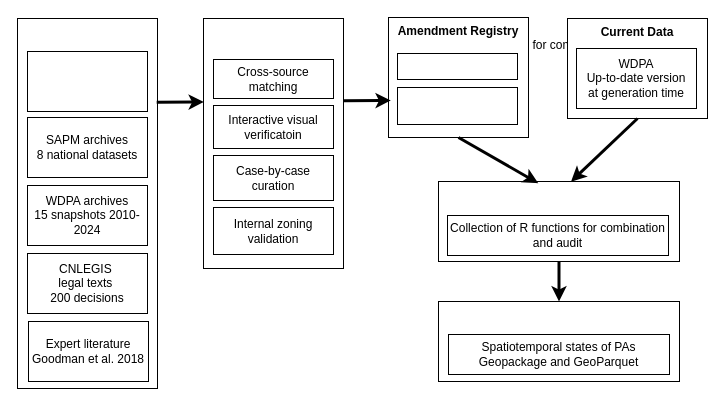
Some shapes in this 725 by 406 pixel diagram are drawn without their labels. Here are the shapes that lost their labels. From the top down, the box of each, then its label:
(26, 50, 148, 112): WDPA working reference Oct. 2025
(396, 52, 518, 80): Fichiers YAML
(396, 86, 518, 124): GeoJSON geometries
(202, 18, 344, 268): Consolidation & Verification
(16, 18, 158, 388): Historical Data
(438, 180, 680, 262): Consolidation
(438, 300, 680, 382): Output dataset
